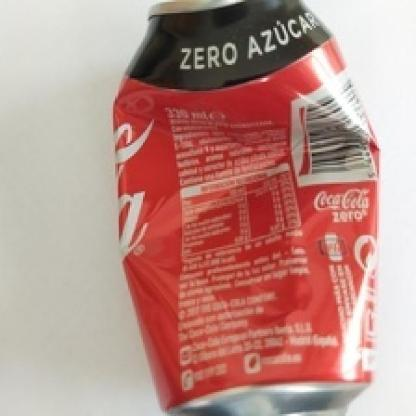Can: (112, 0, 382, 416)
